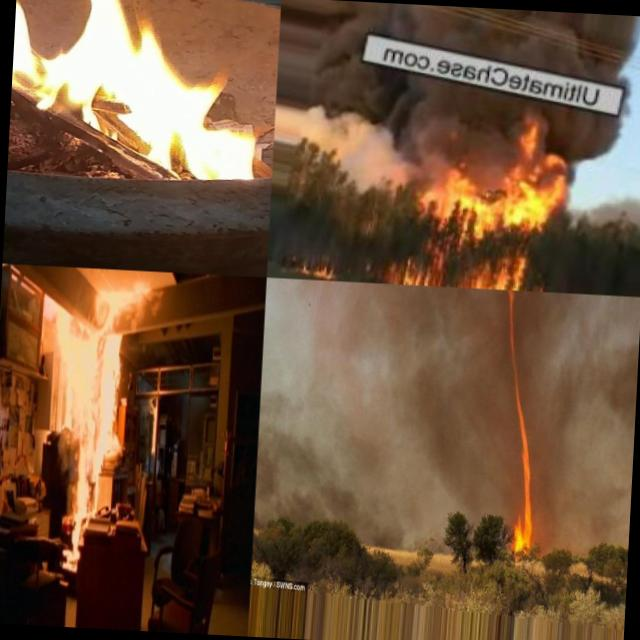fire: (6, 0, 271, 204), (42, 285, 154, 574), (442, 134, 569, 224), (462, 254, 530, 287), (385, 253, 443, 283), (510, 492, 536, 556), (514, 430, 536, 494), (510, 376, 529, 429), (505, 326, 522, 376), (291, 260, 337, 276), (506, 290, 518, 326)
smoke: (254, 278, 456, 528), (533, 292, 640, 548), (322, 76, 448, 195), (444, 288, 506, 514), (356, 524, 446, 553), (494, 428, 516, 522), (519, 328, 545, 377), (518, 291, 546, 328), (527, 378, 542, 431)
